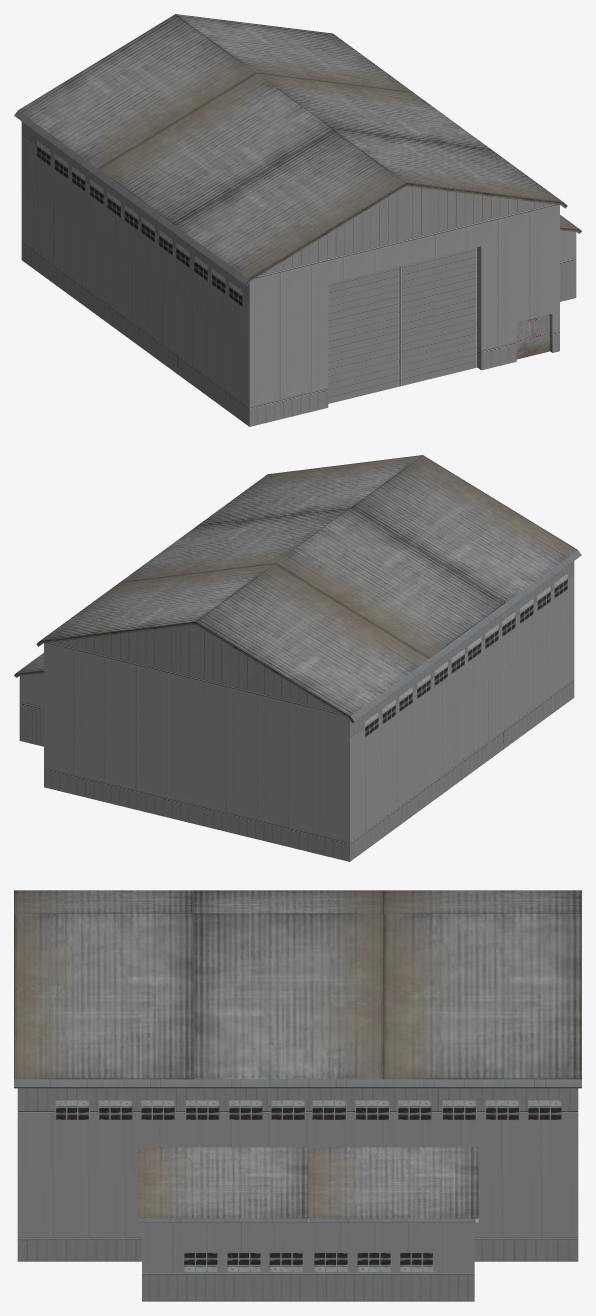
Rendered from shed_warehouse_3.glb.
3 renders of one model, top to bottom at view 1: azimuth 30°, elevation 25°; view 2: azimuth 150°, elevation 25°; view 3: azimuth 270°, elevation 25°, orthographic. The views are drawn at different scales.
Parts seen in each view (by area): view 1: shed_warehouse_3; view 2: shed_warehouse_3; view 3: shed_warehouse_3.
Part boxes in pixels (bbox=[...]): shed_warehouse_3: bbox=[14, 14, 581, 426]; shed_warehouse_3: bbox=[14, 455, 581, 861]; shed_warehouse_3: bbox=[14, 890, 581, 1301].
Size of the model in its own units: 2.91 by 1.49 by 3.
2 materials, 2 textured.
